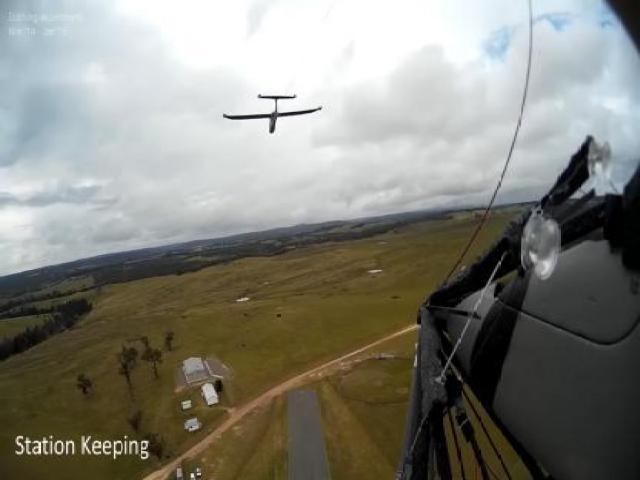uav: (221, 90, 324, 134)
